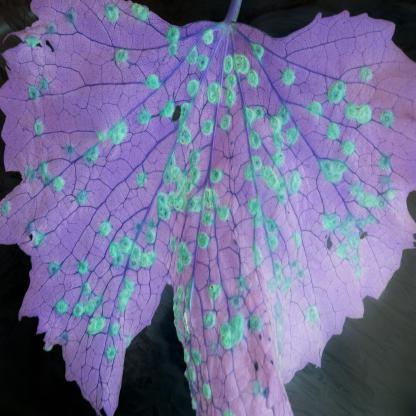grape leaf: (10, 2, 416, 416)
